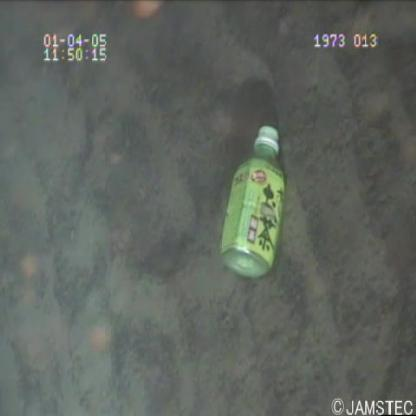Rác: (211, 124, 293, 283)
